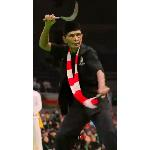Celurit: (41, 1, 83, 32), (80, 86, 112, 113)
